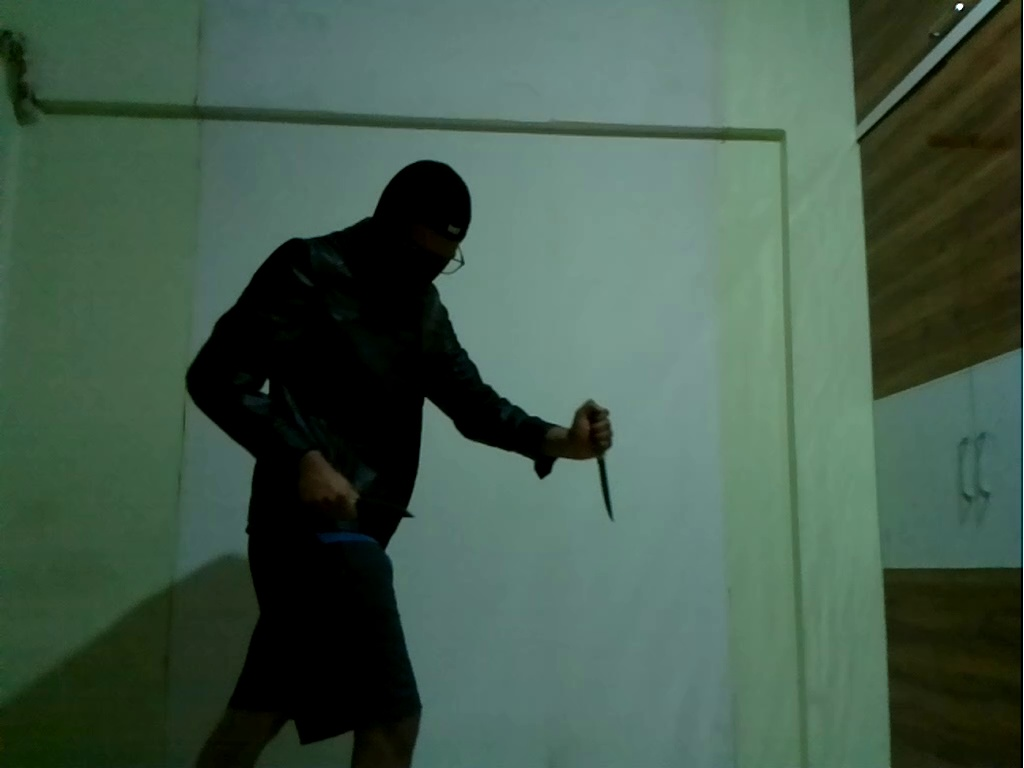knife: (592, 450, 618, 526)
